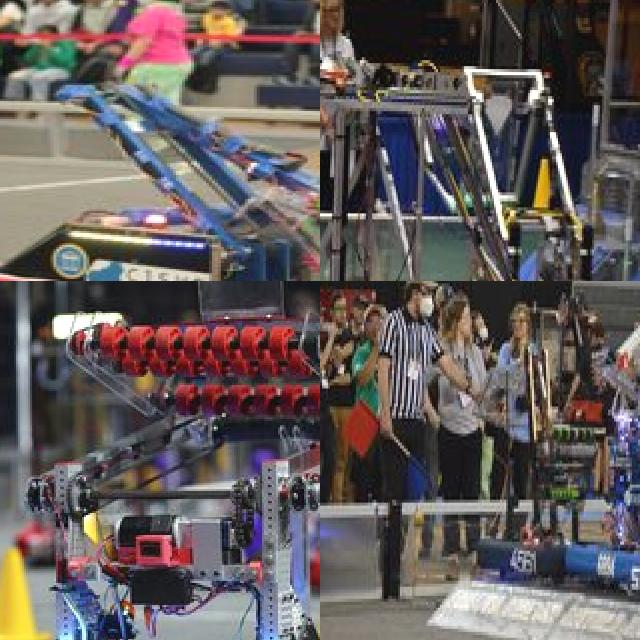FRC-Robots: (42, 287, 320, 640), (0, 0, 320, 281), (320, 0, 635, 281), (405, 50, 640, 281), (455, 302, 591, 585), (562, 316, 640, 592)
